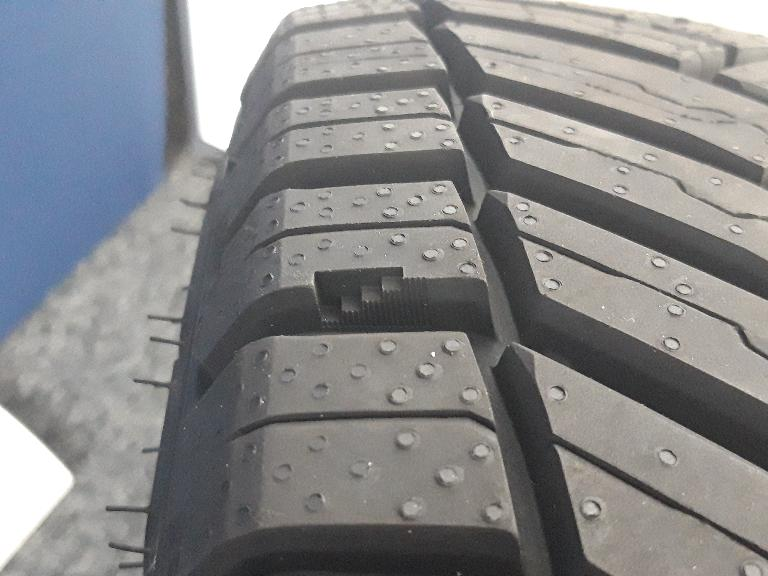temoin:100: (306, 264, 434, 337)
